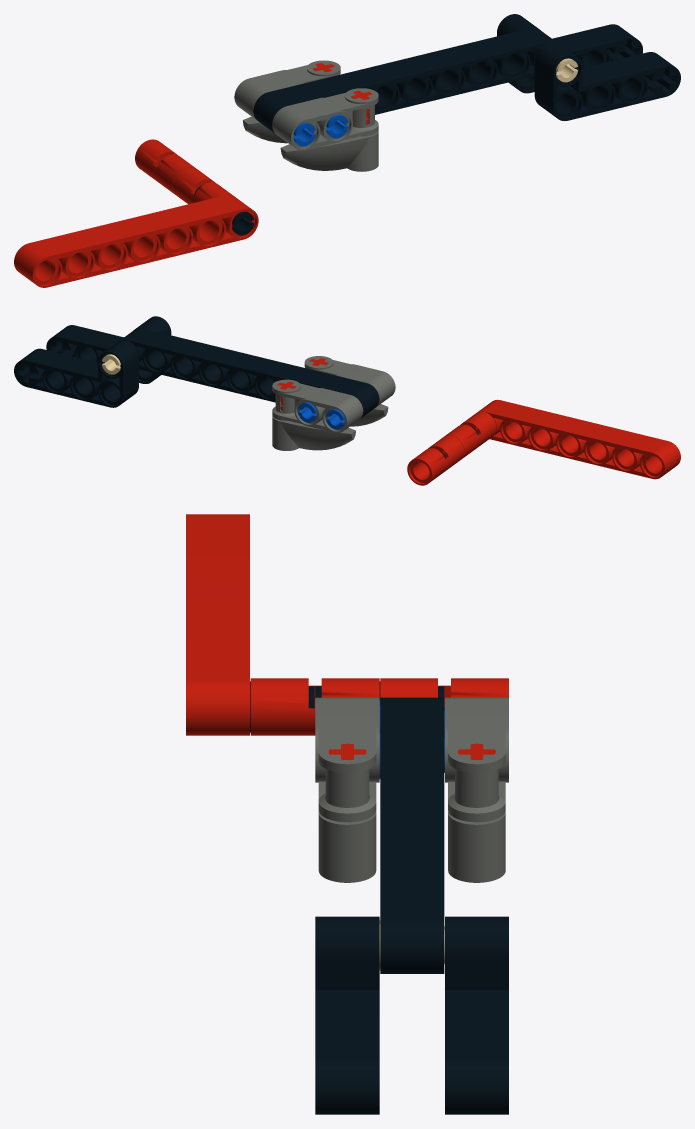
File: one_way_3.glb
The picture shows the model from 3 angles, top to bottom: view 1: azimuth 30°, elevation 25°; view 2: azimuth 150°, elevation 25°; view 3: azimuth 270°, elevation 25°; orthographic projection. The views are drawn at different scales.
Parts seen in each view (by area): view 1: 6558.dat.002, 32524.dat, 32140.dat, 32140.dat.001; view 2: 6558.dat.002, 32524.dat, 32140.dat.001, 32140.dat; view 3: 6558.dat.002, 32524.dat, 32140.dat, 32140.dat.001.
Part boxes in pixels (x1,y1,x2,y2): 6558.dat.002: (234,28,577,171); 32524.dat: (14,139,258,287); 32140.dat: (534,41,680,120); 32140.dat.001: (497,14,642,93); 6558.dat.002: (102,328,395,450); 32524.dat: (407,399,680,485); 32140.dat.001: (14,340,138,407); 32140.dat: (46,316,171,383); 6558.dat.002: (315,697,508,973); 32524.dat: (186,514,508,735); 32140.dat: (315,916,379,1114); 32140.dat.001: (445,916,508,1114).
Bounding box in the file's own units: 4.19 × 0.4045 × 0.998.
